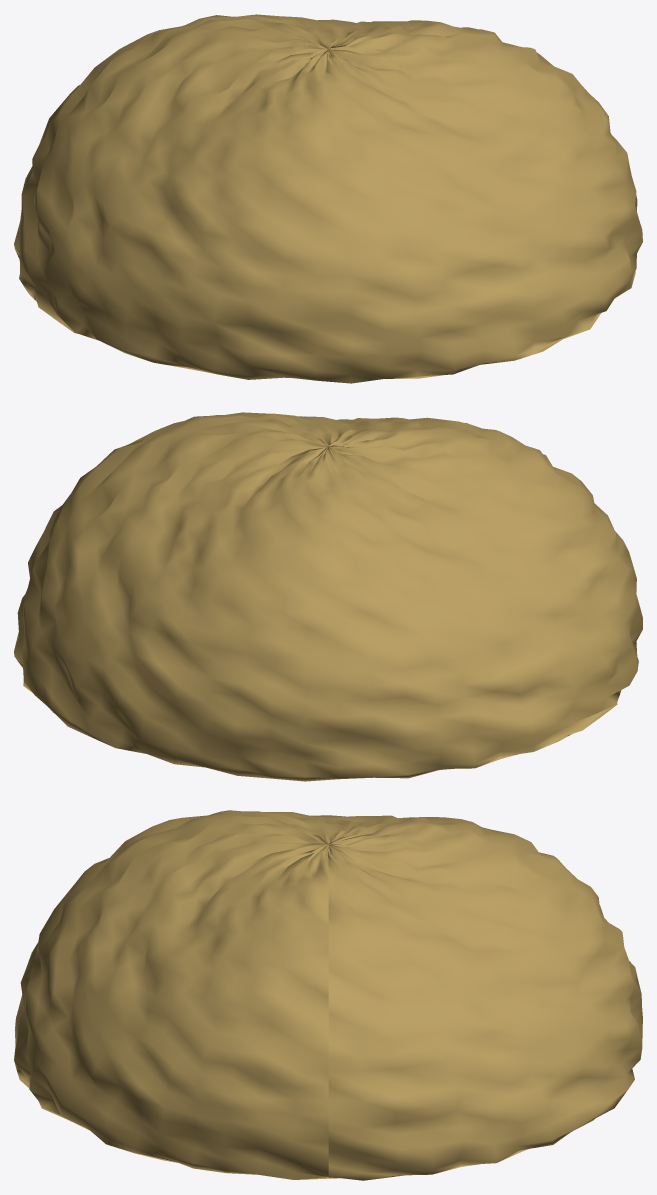
Rendered from corail-cerveau.glb.
The picture shows the model from 3 angles, top to bottom: view 1: azimuth 30°, elevation 25°; view 2: azimuth 150°, elevation 25°; view 3: azimuth 270°, elevation 25°; orthographic projection.
Visible parts, largest first — view 1: corail-cerveau; view 2: corail-cerveau; view 3: corail-cerveau.
Part boxes in pixels (x1,y1,x2,y2): corail-cerveau: (14,14,642,383); corail-cerveau: (14,412,642,781); corail-cerveau: (14,810,642,1180).
Bounding box in the file's own units: 2 × 0.7244 × 1.99.
